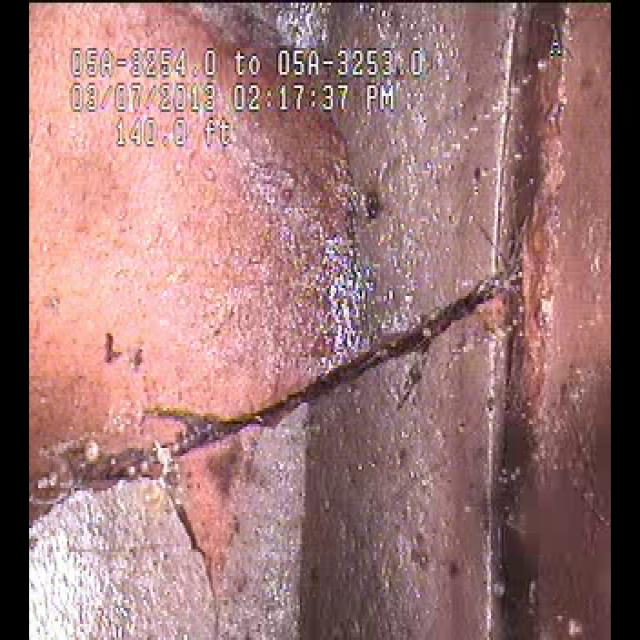Crack: (113, 261, 492, 509)
